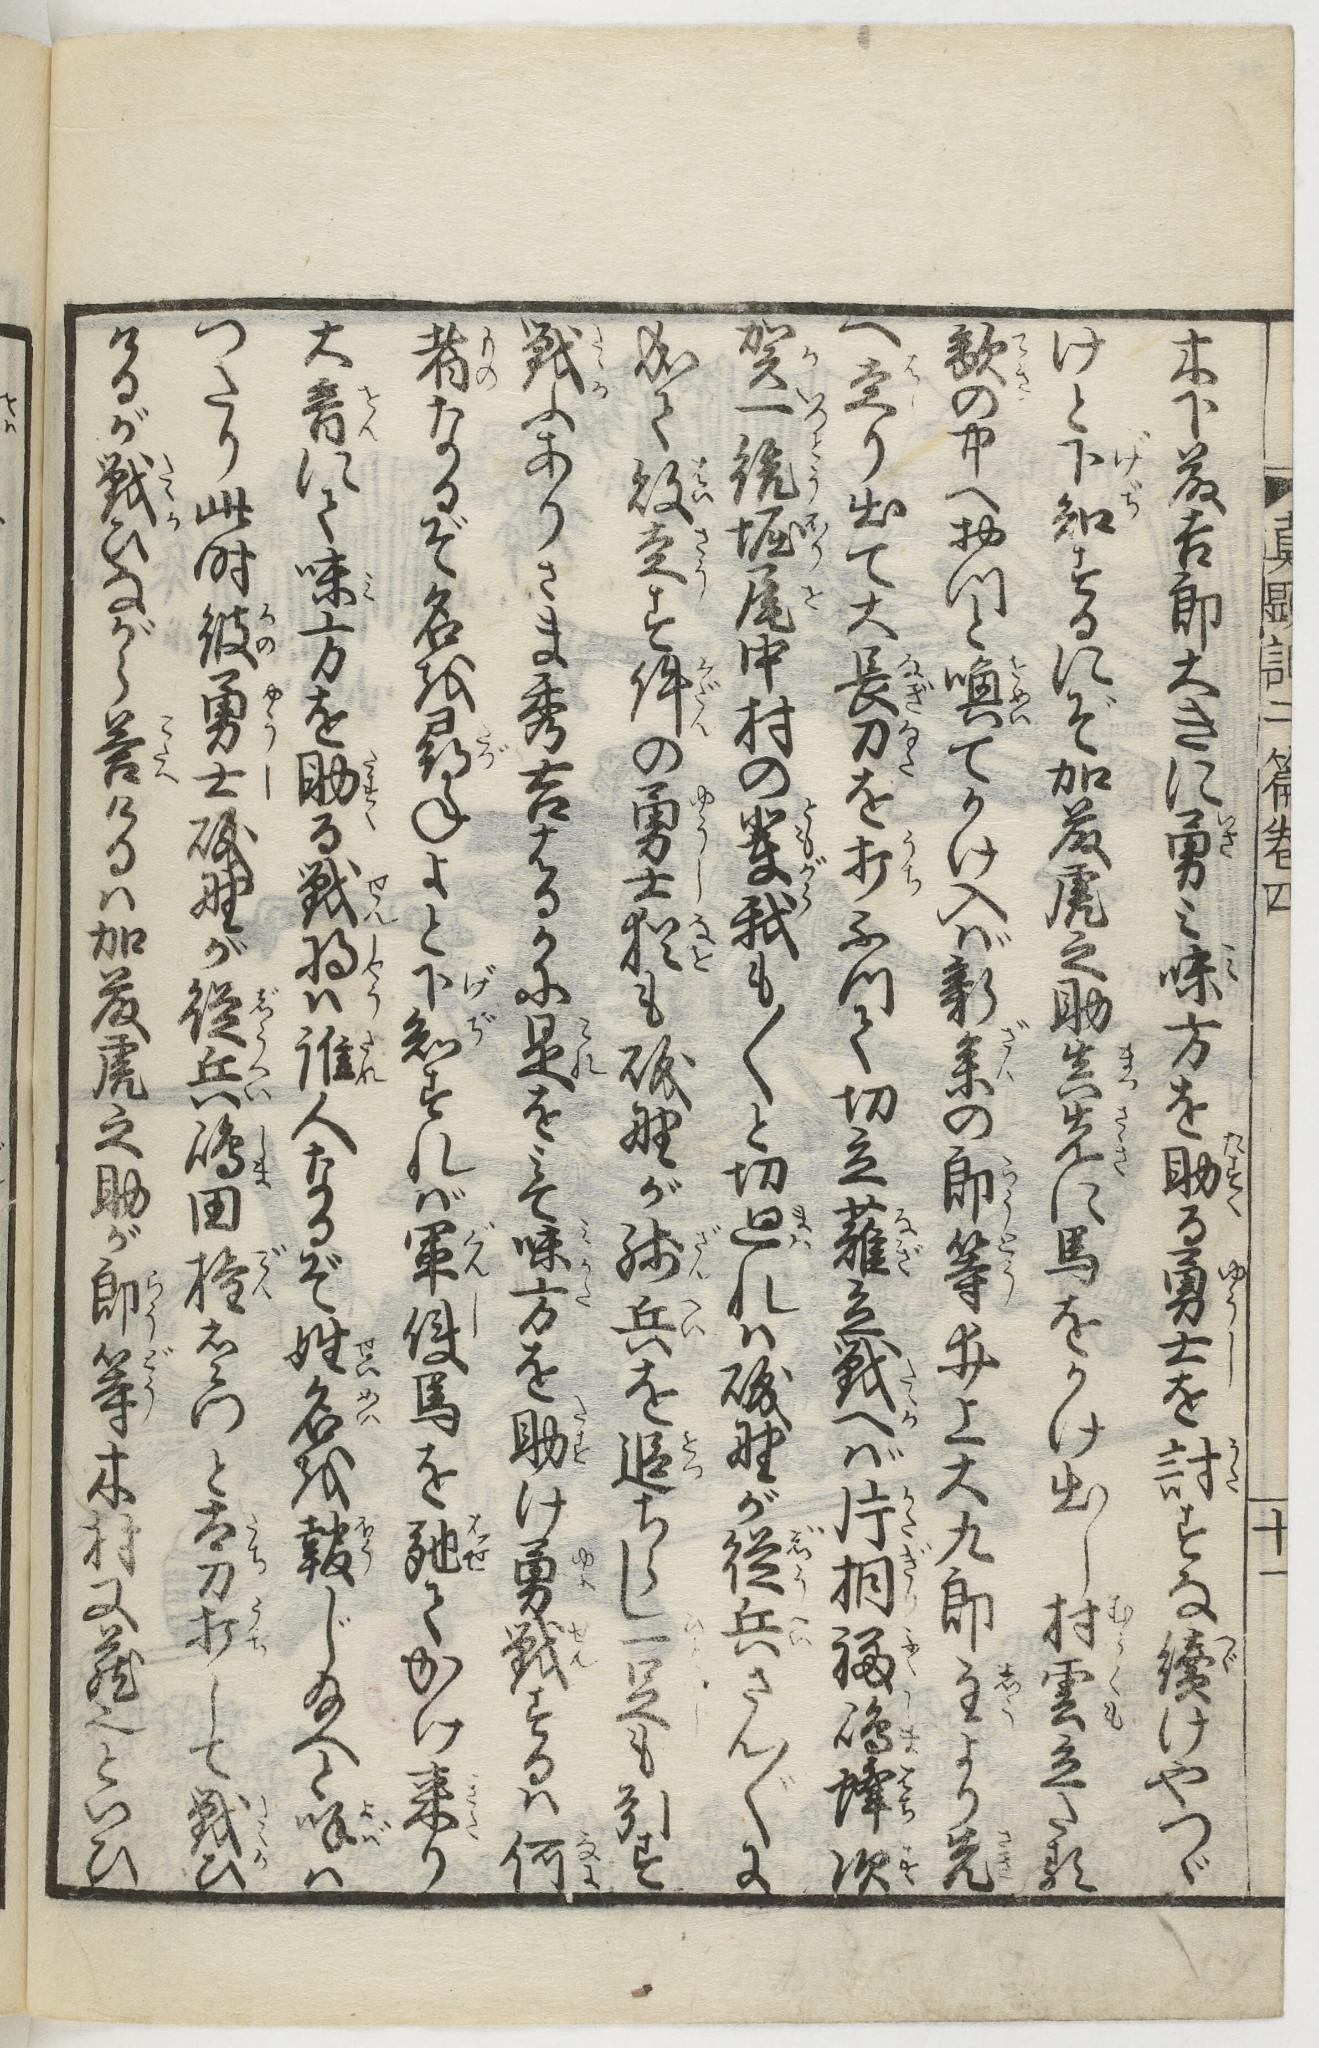MainZone-Character: (488, 1609, 597, 1700), (730, 855, 830, 954), (716, 1518, 828, 1600), (88, 1336, 182, 1432), (178, 1242, 292, 1320), (831, 1331, 925, 1424), (619, 776, 719, 861), (191, 667, 291, 752), (1147, 1618, 1244, 1705), (501, 1824, 610, 1900), (939, 652, 1038, 734), (297, 857, 406, 931), (609, 905, 722, 976), (828, 1193, 918, 1282), (1161, 1126, 1250, 1215), (516, 313, 613, 396), (736, 797, 827, 884), (91, 449, 187, 531), (1150, 1426, 1249, 1505), (182, 1781, 276, 1863), (516, 1006, 612, 1087), (831, 1543, 939, 1615), (733, 567, 831, 645), (400, 1291, 498, 1369), (398, 1005, 509, 1073), (834, 645, 936, 719), (286, 752, 388, 827), (725, 431, 827, 505), (615, 1215, 718, 1287), (1040, 1658, 1132, 1738), (412, 325, 507, 402), (730, 503, 831, 575), (627, 657, 719, 734), (288, 1508, 380, 1585), (503, 1535, 598, 1609), (289, 933, 385, 1008), (395, 1511, 497, 1581), (946, 1020, 1034, 1100), (621, 1658, 712, 1736), (615, 519, 715, 590), (181, 1111, 276, 1184), (188, 599, 291, 666), (942, 1227, 1025, 1309), (843, 828, 930, 908), (843, 349, 931, 427), (937, 1143, 1019, 1226), (943, 321, 1037, 393), (292, 1025, 386, 1097), (403, 714, 503, 781), (91, 711, 179, 787), (397, 1761, 485, 1838), (176, 972, 270, 1042), (512, 1261, 598, 1337), (395, 1218, 495, 1284), (624, 457, 719, 525), (833, 1688, 922, 1761), (613, 1429, 701, 1502), (1053, 481, 1150, 546), (730, 316, 813, 393), (82, 1261, 169, 1334), (184, 1599, 276, 1666), (178, 1042, 279, 1103), (827, 1839, 928, 1900), (300, 378, 389, 446), (297, 549, 392, 614), (297, 1794, 392, 1858), (512, 1399, 597, 1470), (286, 1379, 383, 1442), (1149, 1258, 1246, 1321), (1162, 811, 1244, 884), (283, 1318, 386, 1376), (830, 1623, 925, 1685), (950, 1655, 1028, 1732), (1043, 1591, 1137, 1654), (834, 1763, 921, 1830), (1056, 425, 1158, 482), (845, 714, 933, 778), (192, 1496, 269, 1569), (621, 1291, 707, 1355), (839, 1484, 924, 1548), (943, 1827, 1018, 1897), (1158, 943, 1243, 1005), (1056, 1103, 1135, 1169), (1052, 1040, 1137, 1100), (724, 1606, 821, 1657), (618, 855, 719, 903), (733, 1200, 822, 1254), (1155, 1326, 1243, 1379), (192, 757, 285, 805), (406, 958, 506, 1002), (512, 1215, 600, 1263), (733, 390, 830, 430), (619, 1615, 703, 1652)
MainZone-Ruby: (785, 1515, 828, 1600), (565, 1014, 610, 1090), (892, 1542, 937, 1609), (139, 1345, 179, 1418), (1100, 1660, 1137, 1736), (691, 654, 725, 736), (989, 1655, 1027, 1730), (795, 797, 828, 881), (357, 930, 389, 1014), (889, 1208, 927, 1281), (1222, 1126, 1252, 1215), (683, 1218, 722, 1287), (995, 1227, 1028, 1308), (251, 1242, 294, 1300), (242, 982, 285, 1040), (351, 381, 386, 449), (361, 869, 403, 927), (997, 1020, 1033, 1087), (151, 712, 182, 788), (258, 679, 288, 758), (1110, 425, 1158, 475), (1003, 651, 1034, 725), (683, 782, 718, 849), (355, 1028, 389, 1096), (473, 722, 515, 776), (360, 749, 386, 833), (463, 1220, 498, 1282), (897, 652, 934, 712), (1110, 1106, 1140, 1181), (248, 1121, 278, 1196), (160, 449, 187, 531), (1103, 1590, 1137, 1654), (897, 1682, 927, 1755), (898, 827, 930, 896), (252, 1787, 278, 1869), (898, 1355, 927, 1429), (780, 1606, 824, 1654), (458, 1772, 488, 1839), (355, 1517, 385, 1584), (355, 1791, 391, 1846), (785, 1200, 824, 1251), (460, 960, 503, 1005), (588, 321, 612, 400), (573, 1832, 606, 1888), (564, 1618, 598, 1672), (688, 912, 716, 976), (245, 1043, 273, 1108), (789, 882, 830, 927), (467, 1008, 507, 1052), (348, 1334, 386, 1381), (476, 324, 500, 399), (140, 1266, 166, 1336), (1219, 1257, 1247, 1320), (894, 1843, 930, 1893), (570, 1393, 595, 1461), (801, 509, 831, 567), (992, 1826, 1022, 1884), (682, 1682, 710, 1743), (464, 1290, 497, 1342), (897, 717, 925, 776), (686, 449, 716, 505), (897, 1764, 924, 1826), (466, 1511, 492, 1572), (804, 430, 825, 508), (997, 1151, 1019, 1223), (242, 1514, 269, 1573), (248, 1596, 270, 1667), (1013, 327, 1034, 403), (689, 525, 715, 588), (571, 1546, 603, 1597), (898, 1479, 922, 1545), (795, 382, 831, 425), (257, 602, 283, 658), (679, 1293, 709, 1343), (1213, 1630, 1246, 1675), (1224, 1430, 1246, 1496), (1215, 812, 1241, 864), (900, 1623, 927, 1675), (1218, 930, 1241, 988), (1118, 479, 1150, 519), (677, 1426, 701, 1481), (1221, 1329, 1241, 1390), (1118, 1043, 1144, 1090), (351, 1387, 383, 1423), (257, 760, 279, 806), (683, 1614, 707, 1657), (579, 1258, 597, 1314), (358, 570, 383, 609), (898, 354, 927, 385), (691, 858, 712, 900), (800, 581, 825, 609), (576, 1215, 595, 1245), (795, 336, 818, 361)
